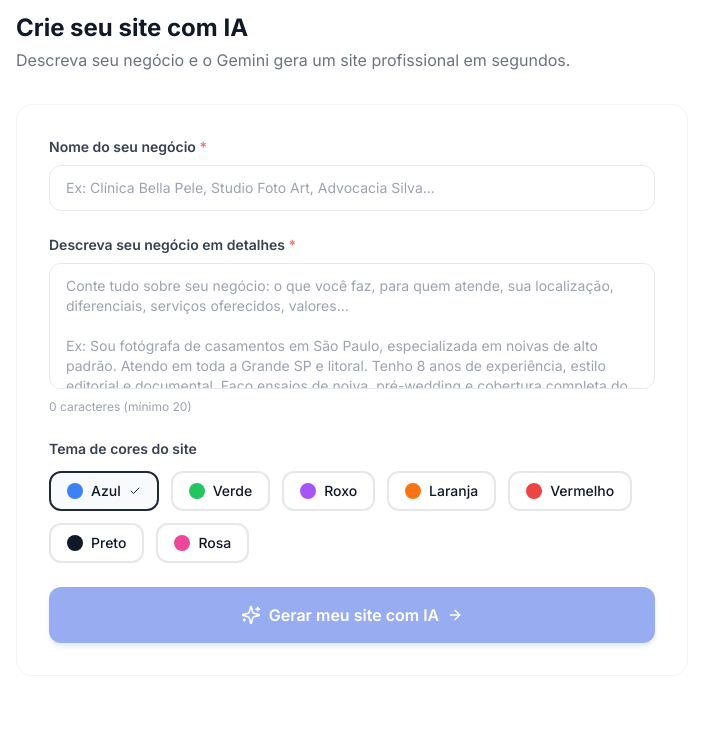
Scenario: CreateSitePage › exibe erro quando a API retorna falha
Type "Meu Negócio" into the field with placeholder "Ex: Clínica Bella Pele, Studio Foto Art, Advocacia Silva..." at (352,188), box x1=49 y1=165 x2=655 y2=211
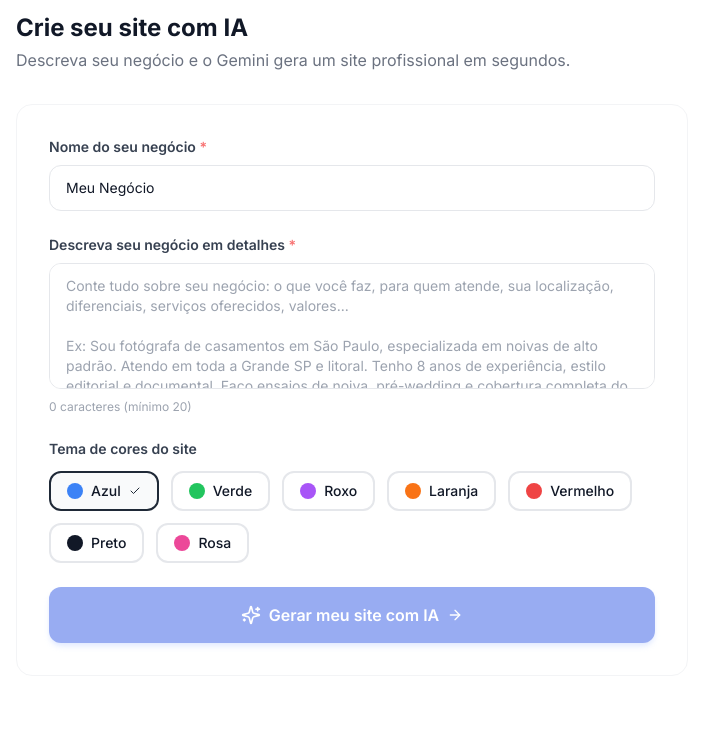
Replace the text in the text box with placeholder "Sou fotógrafa" with "Descrição bem detalhada do meu negócio aqui mesmo" at (352,326), box x1=49 y1=263 x2=655 y2=389
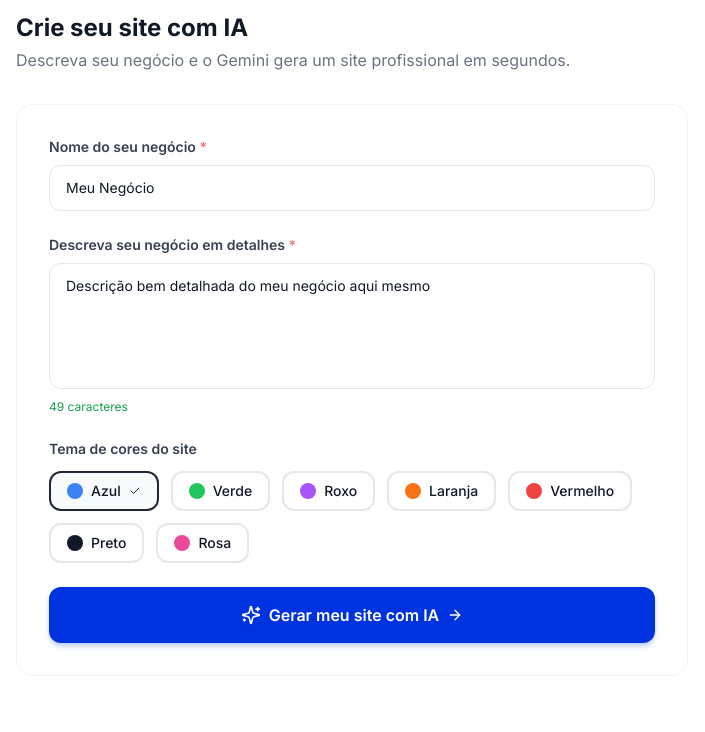
Click the button "Gerar meu site com IA" at (352,615), box x1=49 y1=587 x2=655 y2=643
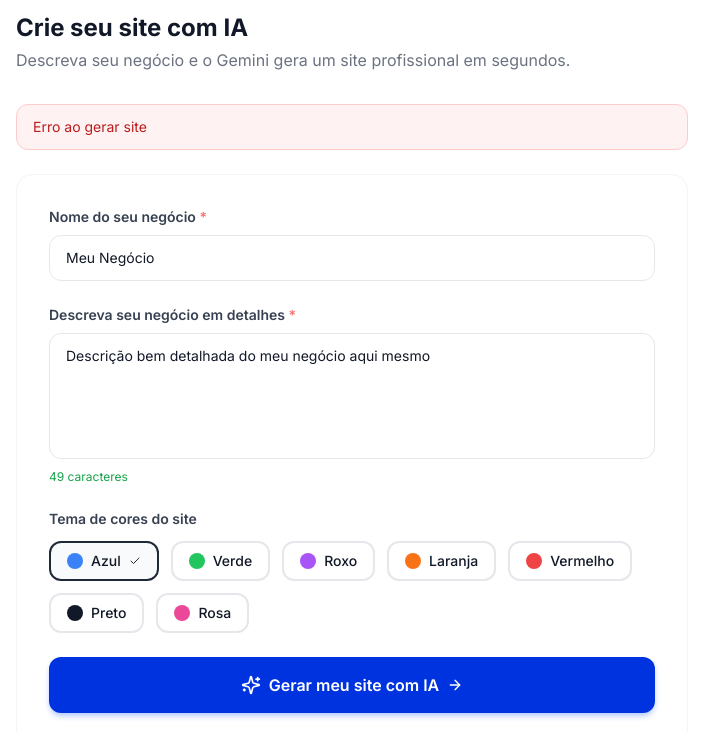
Check: the text "Erro ao gerar site" is shown, box x1=16 y1=104 x2=688 y2=150
